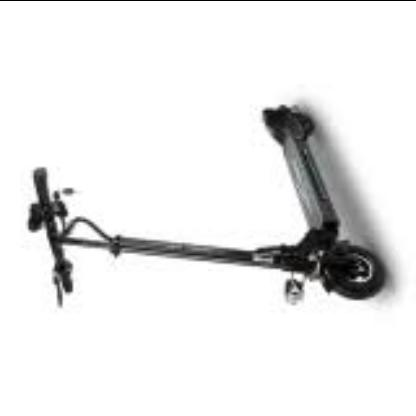bike: (24, 104, 386, 307), (255, 105, 386, 305)
